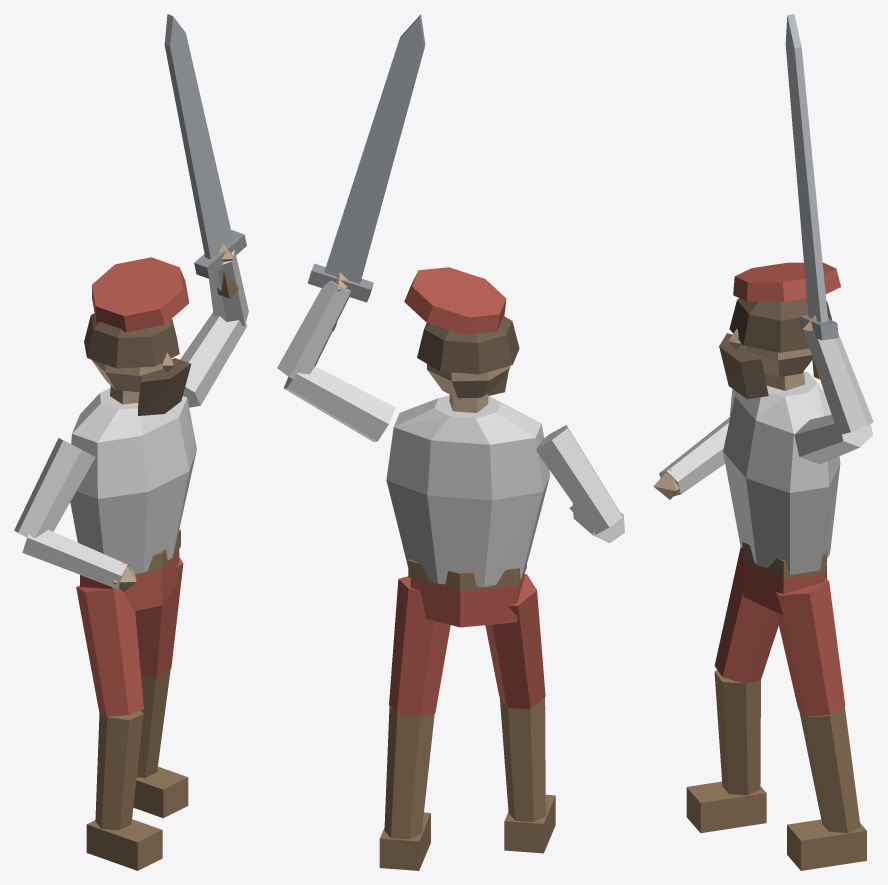
The model's file is landsknecht.glb.
3 renders of one model, left to right at view 1: azimuth 30°, elevation 25°; view 2: azimuth 150°, elevation 25°; view 3: azimuth 270°, elevation 25°, orthographic. The views are drawn at different scales.
Parts seen in each view (by area): view 1: LOD0; view 2: LOD0; view 3: LOD0.
Part boxes in pixels (box(x1,y1,x2,y2)): LOD0: box(14, 14, 248, 870); LOD0: box(277, 14, 624, 870); LOD0: box(653, 14, 873, 870).
Size of what is drawn, in the model's own units: 0.5368 by 1.46 by 0.3451.
